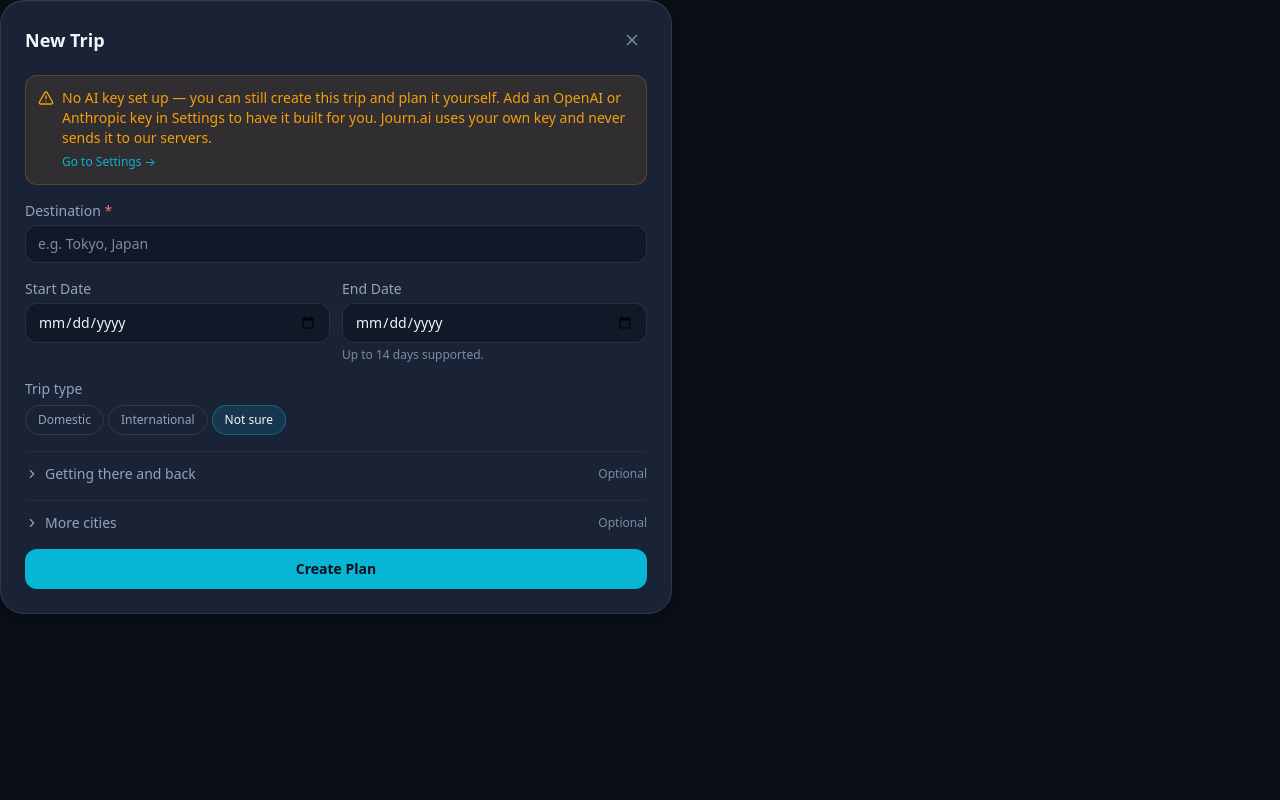
it: choosing international › opens the section rather than answering it out of sight
In the dropdown with test id "destination-input": coordinates (336, 244) [25, 225, 647, 263], type "Tokyo, Japan"
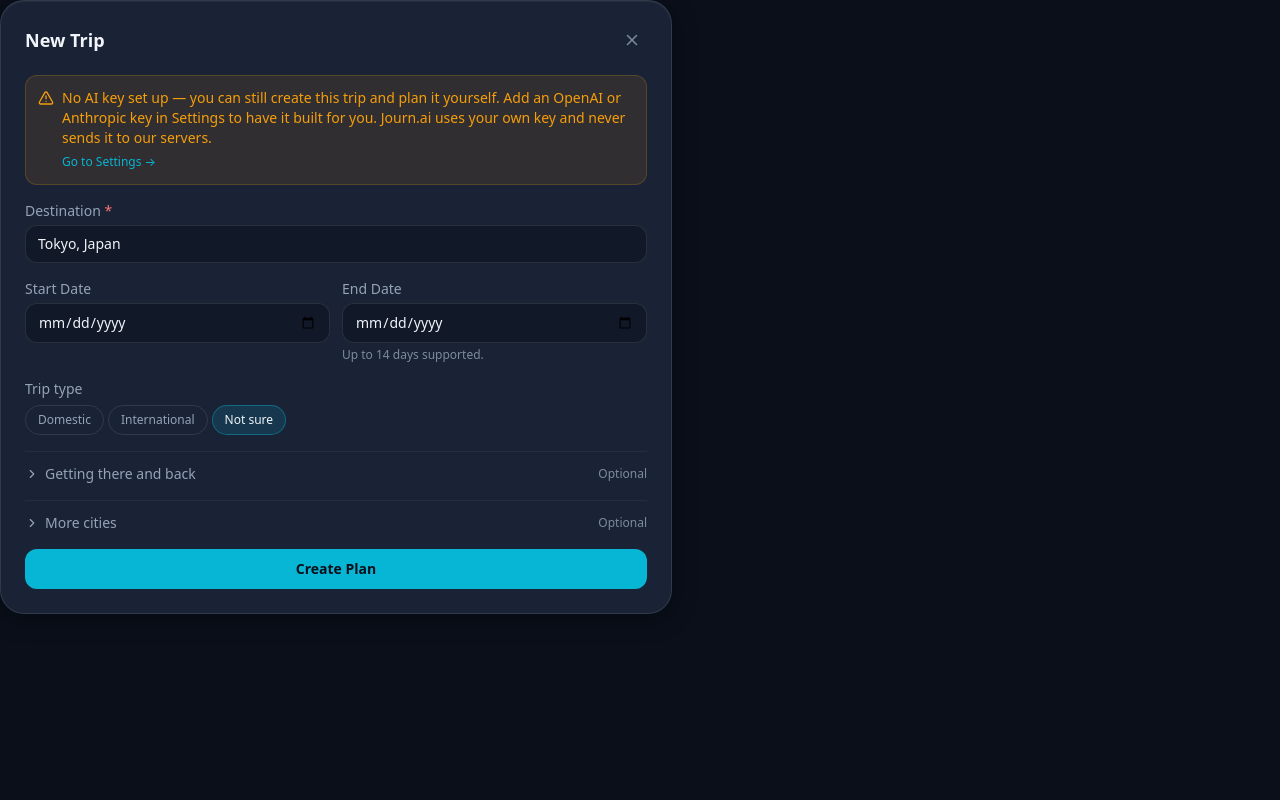
In the date field with test id "start-date-input": coordinates (178, 323) [25, 303, 330, 343], type "2025-07-14"
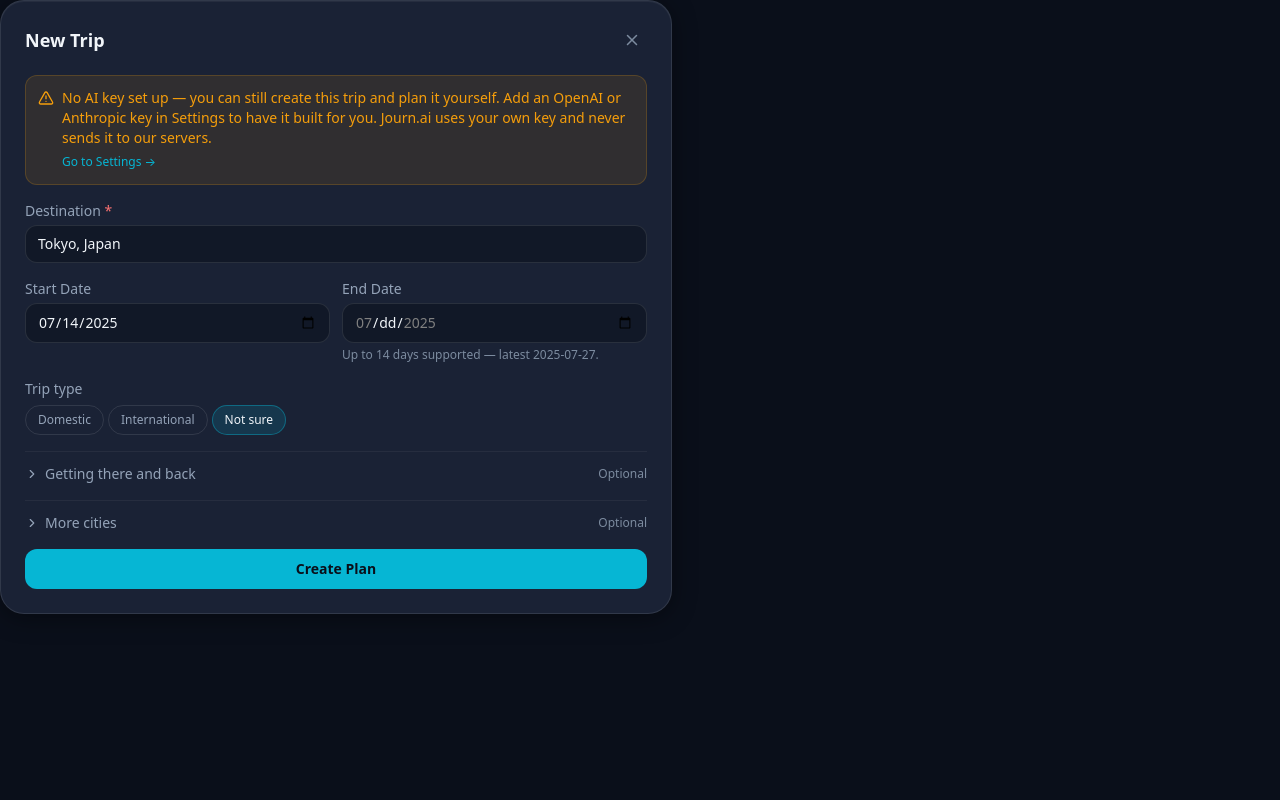
In the date field with test id "end-date-input": coordinates (494, 323) [342, 303, 647, 343], type "2025-07-21"
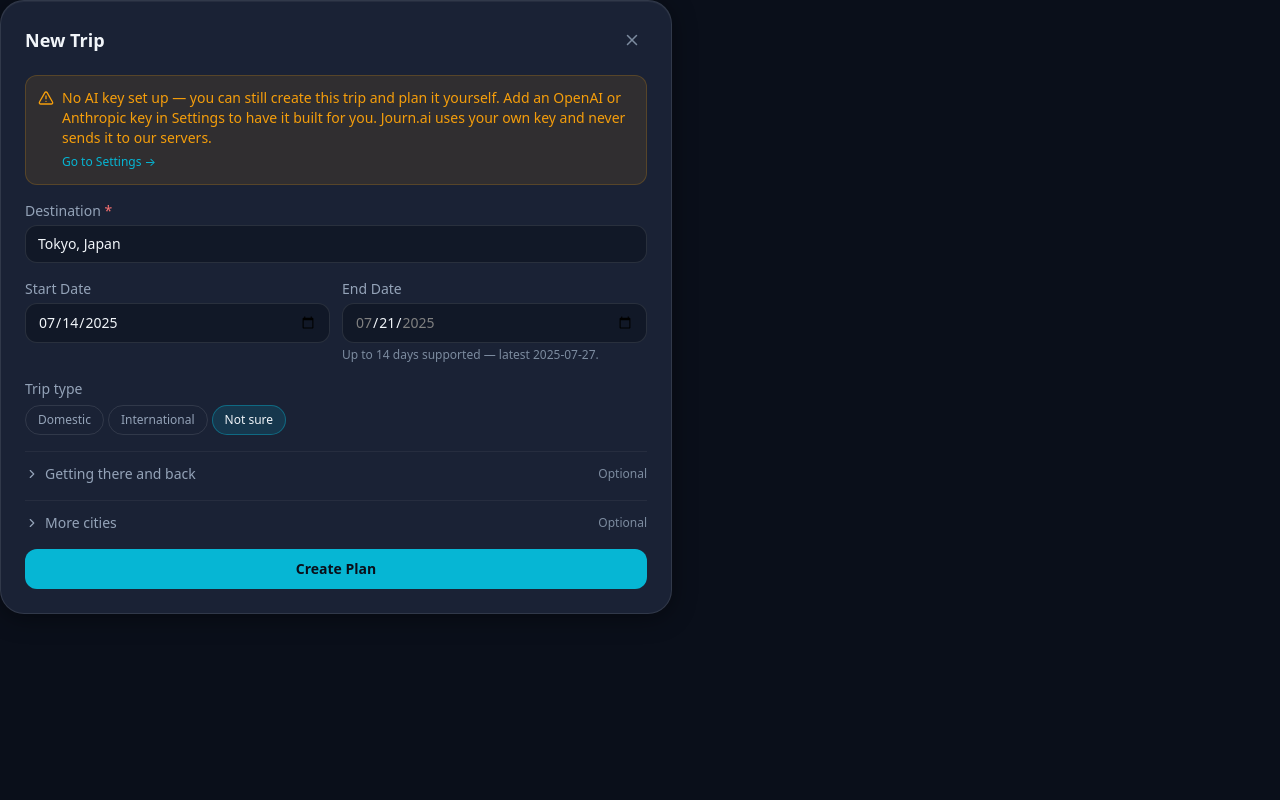
Click the button with test id "border-international": coordinates (158, 420) [108, 405, 208, 435]
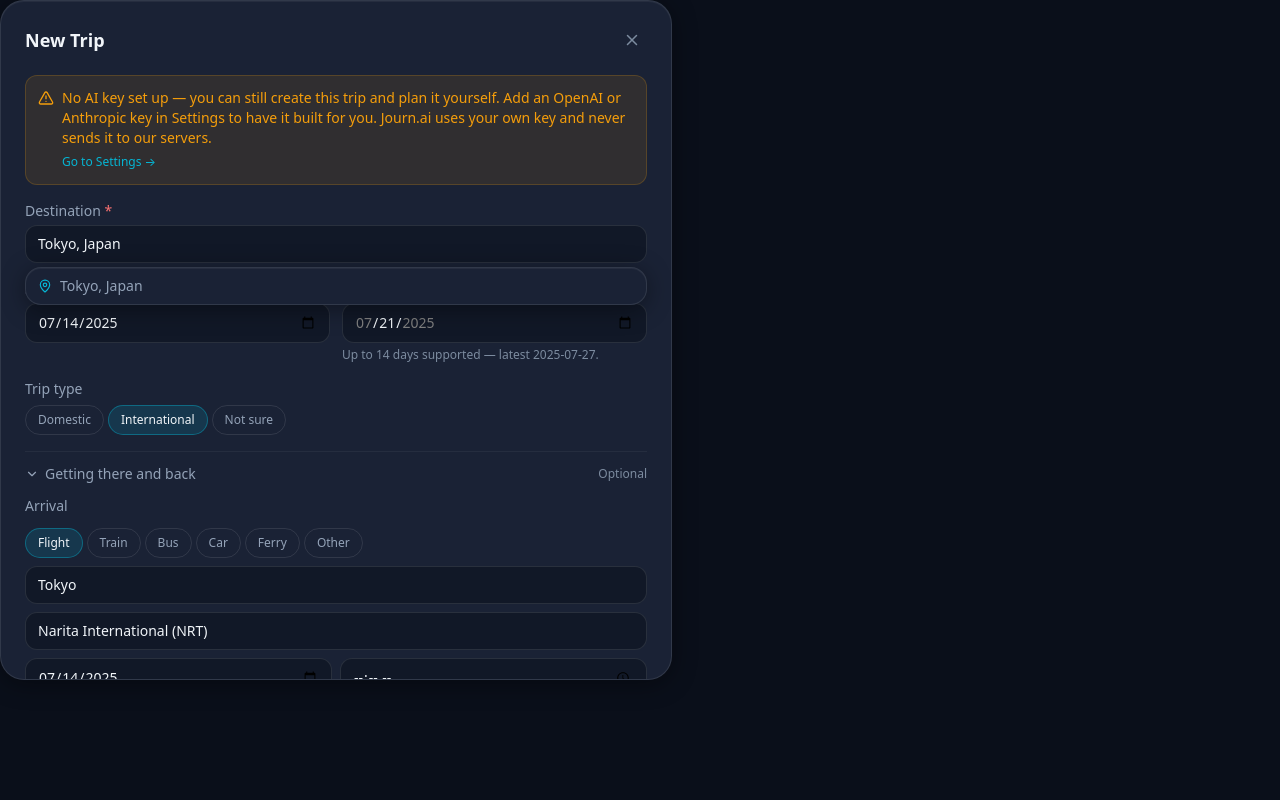
Now the field with test id "arrival-city" is shown, box [25, 566, 647, 604]
